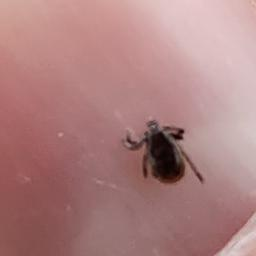Ixodes scapularis: (120, 119, 199, 184)
